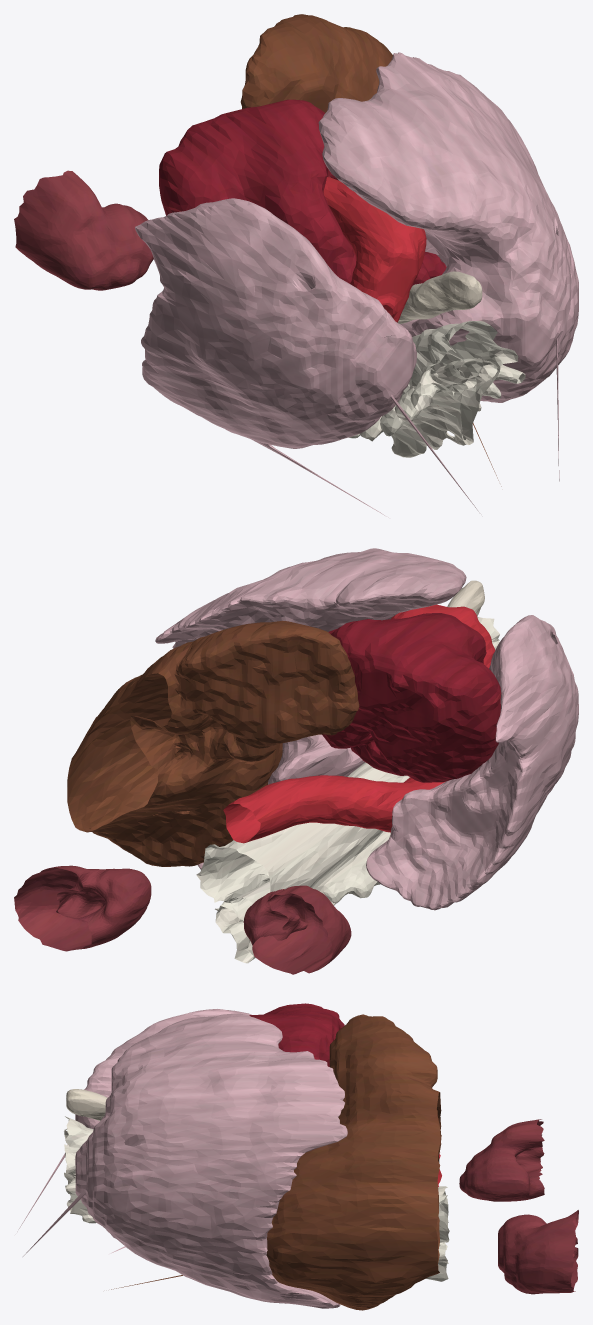
File: lidc-organs.glb
3 views of the same model, one above another, from view 1: azimuth 30°, elevation 25°; view 2: azimuth 150°, elevation 25°; view 3: azimuth 270°, elevation 25° (orthographic). The views are drawn at different scales.
Parts seen in each view (by area): view 1: left-lung, right-lung, heart, spine, left-kidney, liver, aorta, trachea; view 2: liver, left-lung, heart, right-lung, spine, aorta, right-kidney, left-kidney, trachea; view 3: right-lung, liver, right-kidney, left-kidney, heart, spine, left-lung, trachea.
Part boxes in pixels (x1,y1,x2,y2): left-lung: (135, 198, 480, 517); right-lung: (318, 52, 578, 481); heart: (159, 99, 446, 285); spine: (349, 321, 525, 457); left-kidney: (14, 170, 153, 290); liver: (240, 14, 501, 486); aorta: (323, 177, 426, 322); trachea: (397, 271, 482, 323); liver: (67, 620, 359, 866); left-lung: (366, 615, 578, 910); heart: (322, 613, 501, 782); right-lung: (155, 548, 466, 869); spine: (196, 616, 499, 963); aorta: (223, 604, 495, 843); right-kidney: (14, 865, 151, 951); left-kidney: (243, 885, 351, 974); trachea: (447, 580, 484, 616); right-lung: (23, 1013, 347, 1308); liver: (111, 1014, 441, 1310); right-kidney: (498, 1210, 578, 1294); left-kidney: (459, 1119, 544, 1201); heart: (249, 1003, 344, 1066); spine: (64, 1116, 449, 1281); left-lung: (17, 1009, 251, 1253); trachea: (66, 1089, 107, 1120).
Size of what is drawn, in the model's own units: 296 by 239 by 472.
Materials: 7 (7 with a texture image).
